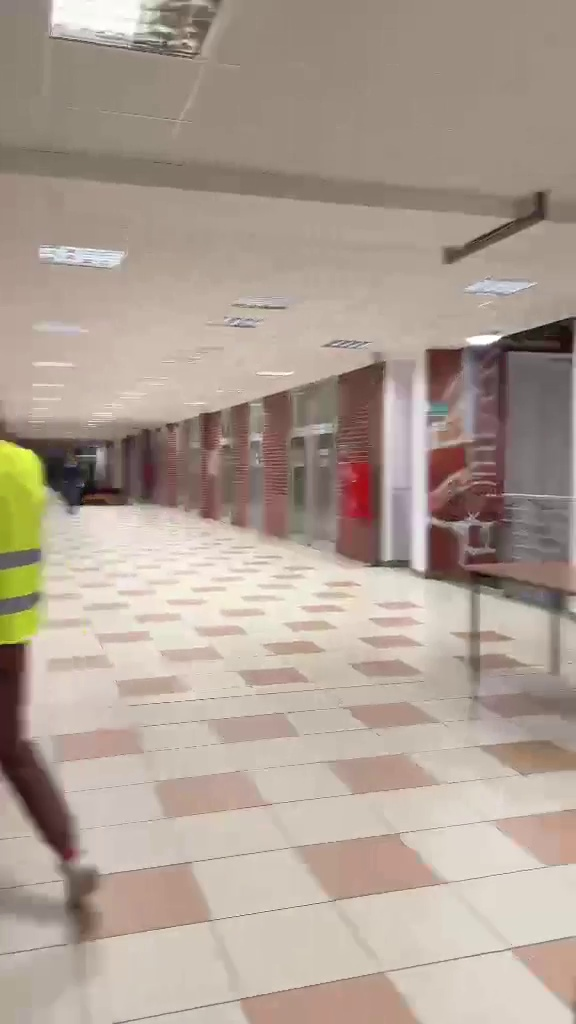vest: (0, 414, 110, 922)
